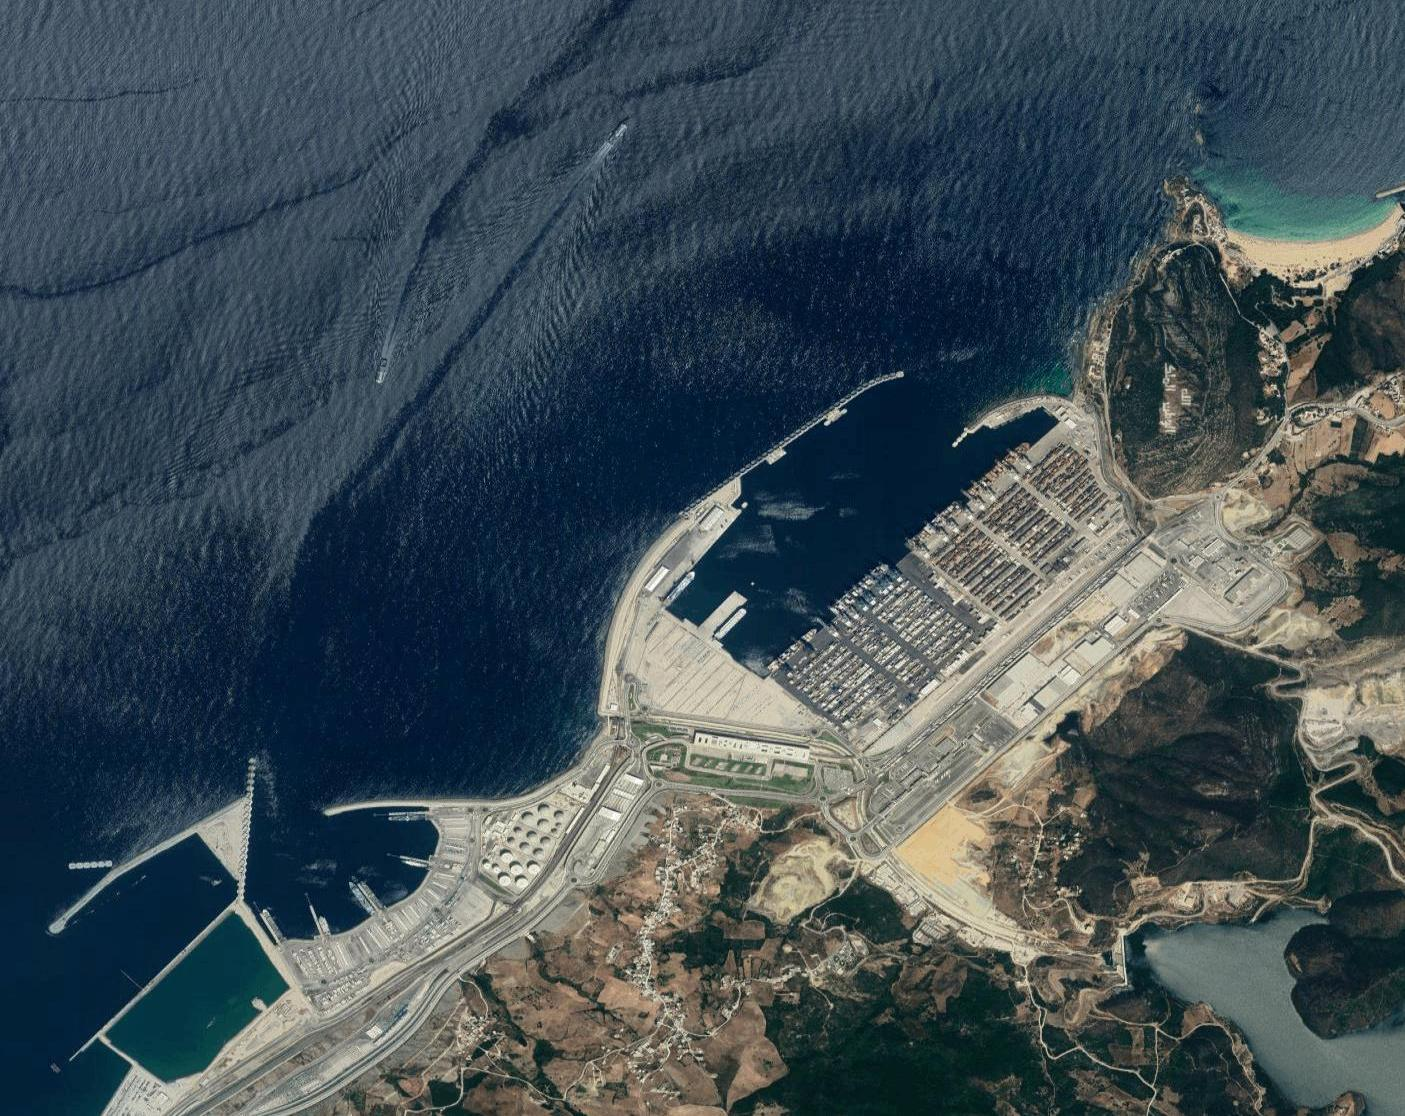harbor: (602, 357, 1110, 730), (50, 712, 531, 1090)
